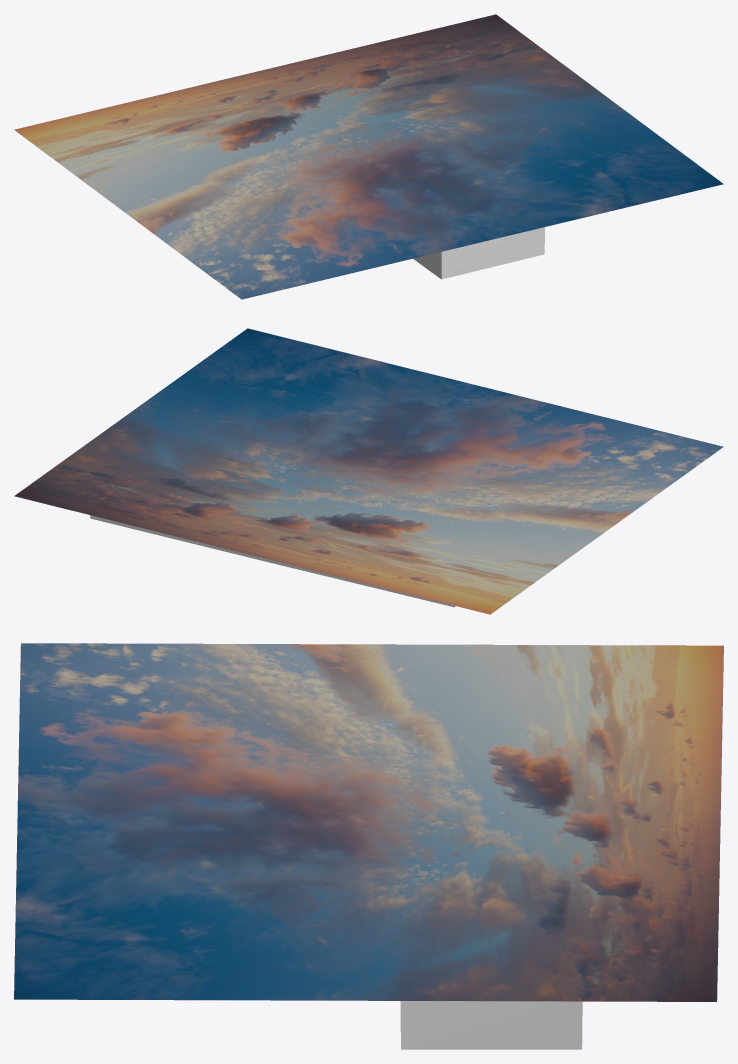
File: galeria.glb
3 views of the same model, one above another, from view 1: azimuth 30°, elevation 25°; view 2: azimuth 150°, elevation 25°; view 3: azimuth 270°, elevation 25° (orthographic). The views are drawn at different scales.
Visible parts, largest first — view 1: Plane005, Plane004; view 2: Plane005, Plane003; view 3: Plane005, Plane003.
Boxes of the visible parts, x1,y1,x2,y2 form: Plane005: (14, 14, 723, 299); Plane004: (413, 227, 544, 279); Plane005: (14, 328, 723, 614); Plane003: (90, 515, 455, 607); Plane005: (14, 643, 723, 1001); Plane003: (400, 1001, 582, 1049).
Bounding box in the file's own units: 458 × 42.77 × 383.
51 materials, 4 textured.
